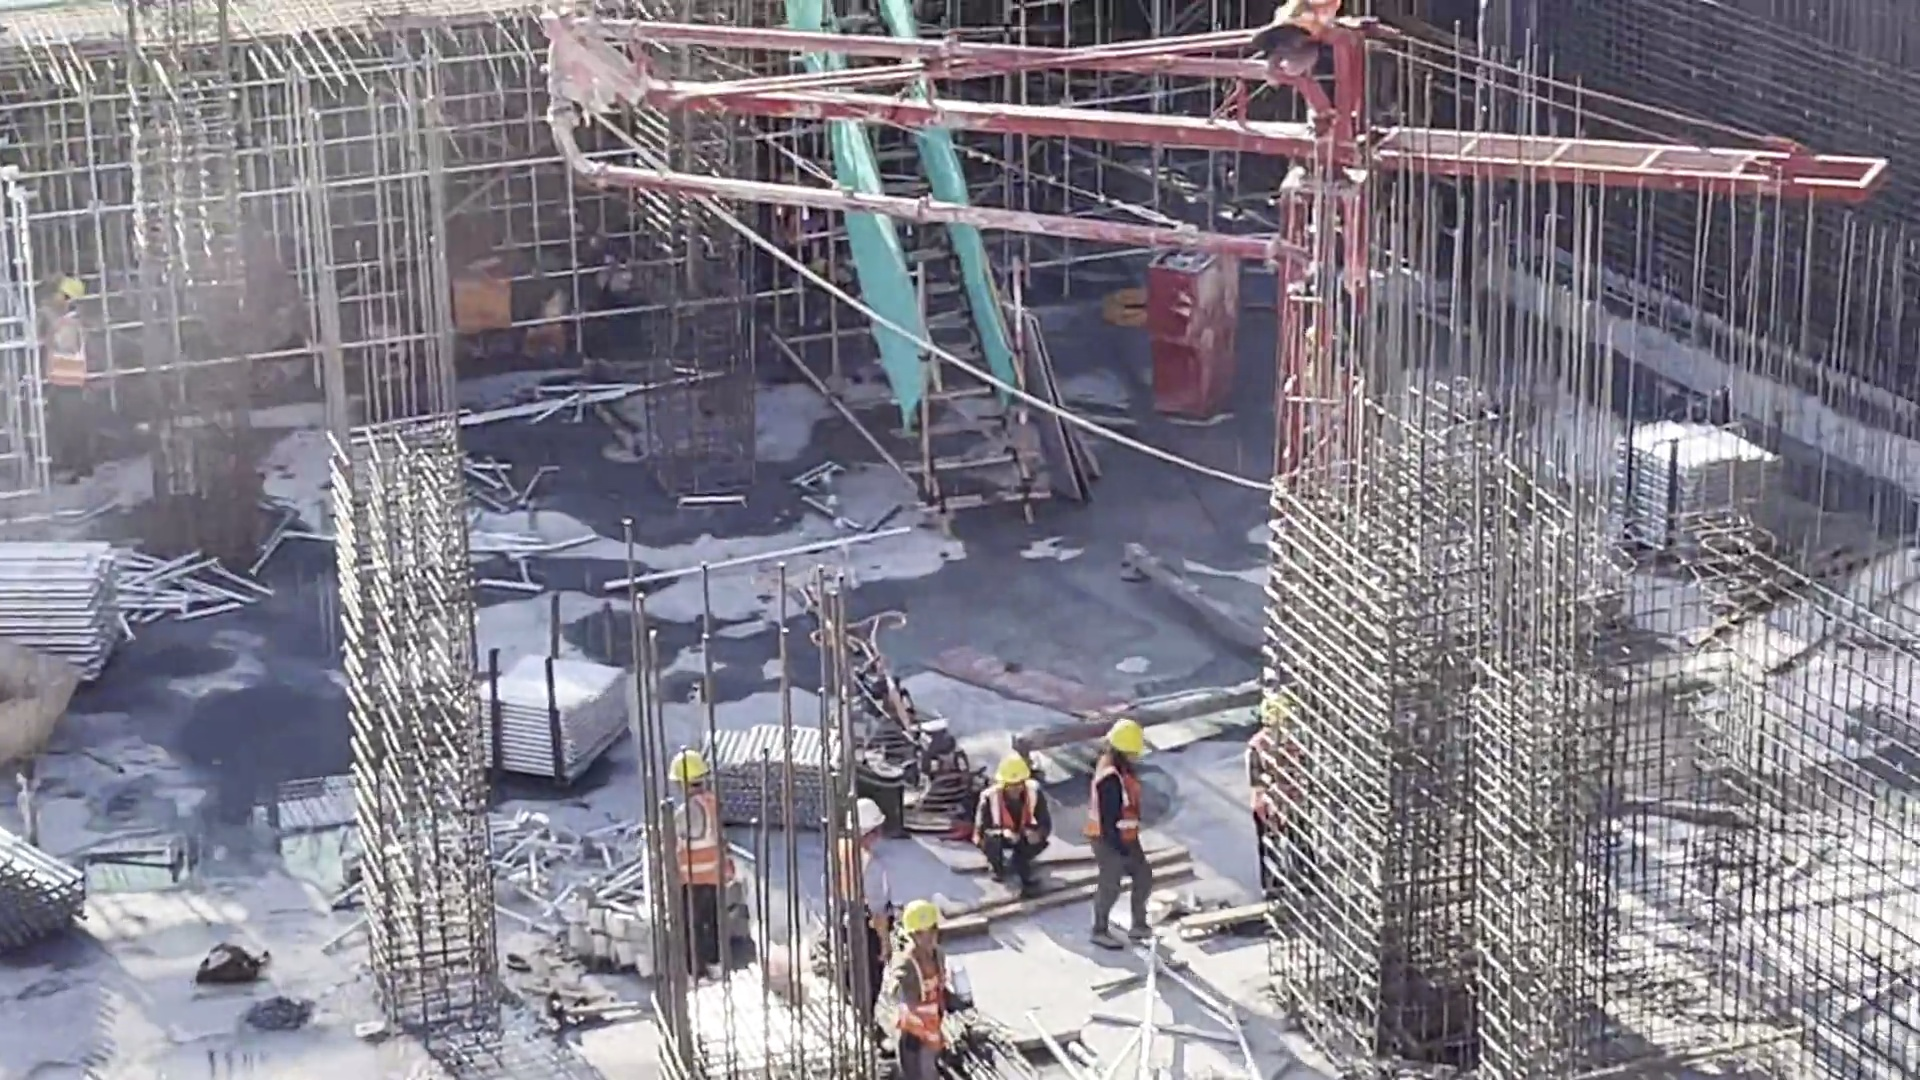helmet: (900, 901, 948, 952), (667, 750, 715, 794), (1103, 717, 1151, 760), (843, 795, 882, 842), (1262, 691, 1304, 731), (996, 758, 1030, 801), (48, 278, 88, 308)
hopper: (1, 649, 100, 766)
person: (874, 894, 971, 1080), (1084, 715, 1159, 949), (649, 730, 726, 954), (825, 786, 889, 997), (1251, 690, 1312, 904), (40, 274, 106, 461), (977, 756, 1058, 883)
scaffold: (1611, 412, 1778, 588), (466, 645, 620, 784), (1, 534, 121, 692), (1, 823, 106, 968)
vest: (892, 948, 966, 1038), (669, 790, 719, 880), (1245, 737, 1289, 820), (1093, 767, 1144, 837), (48, 317, 92, 390), (834, 846, 885, 904), (992, 791, 1041, 835)
